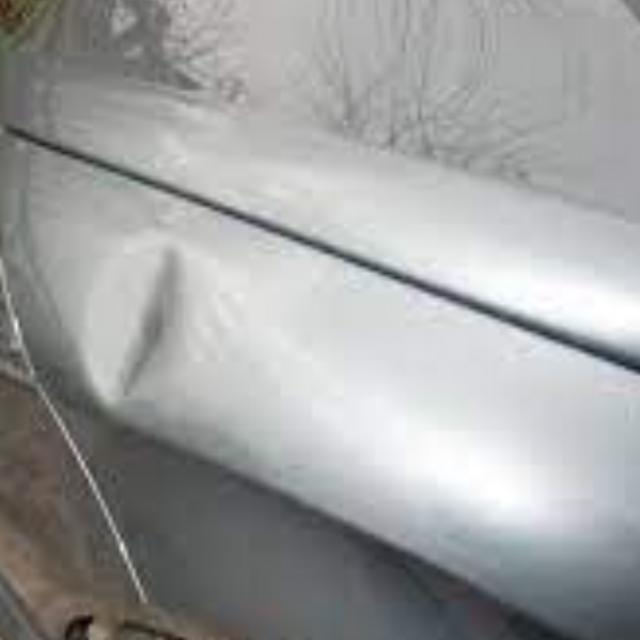dents: (55, 220, 242, 437)
